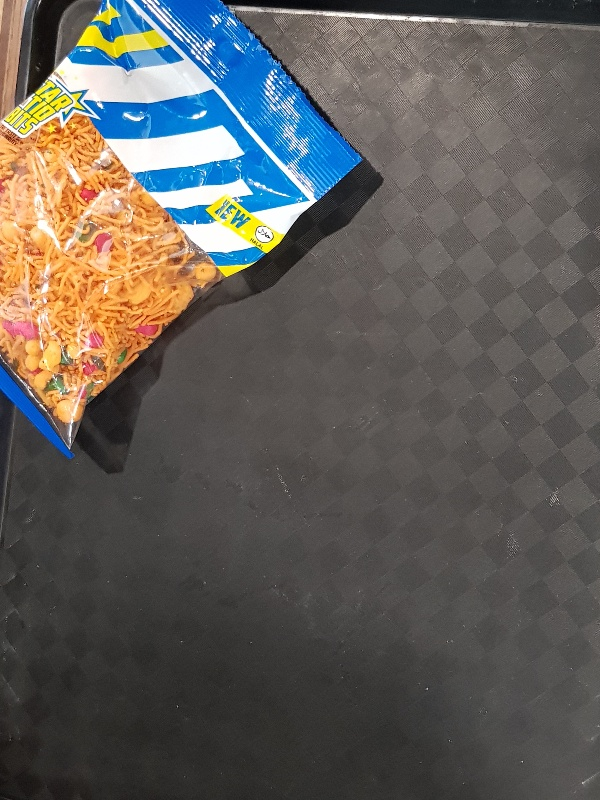Star Tidbits Mixer: (2, 1, 362, 461)
